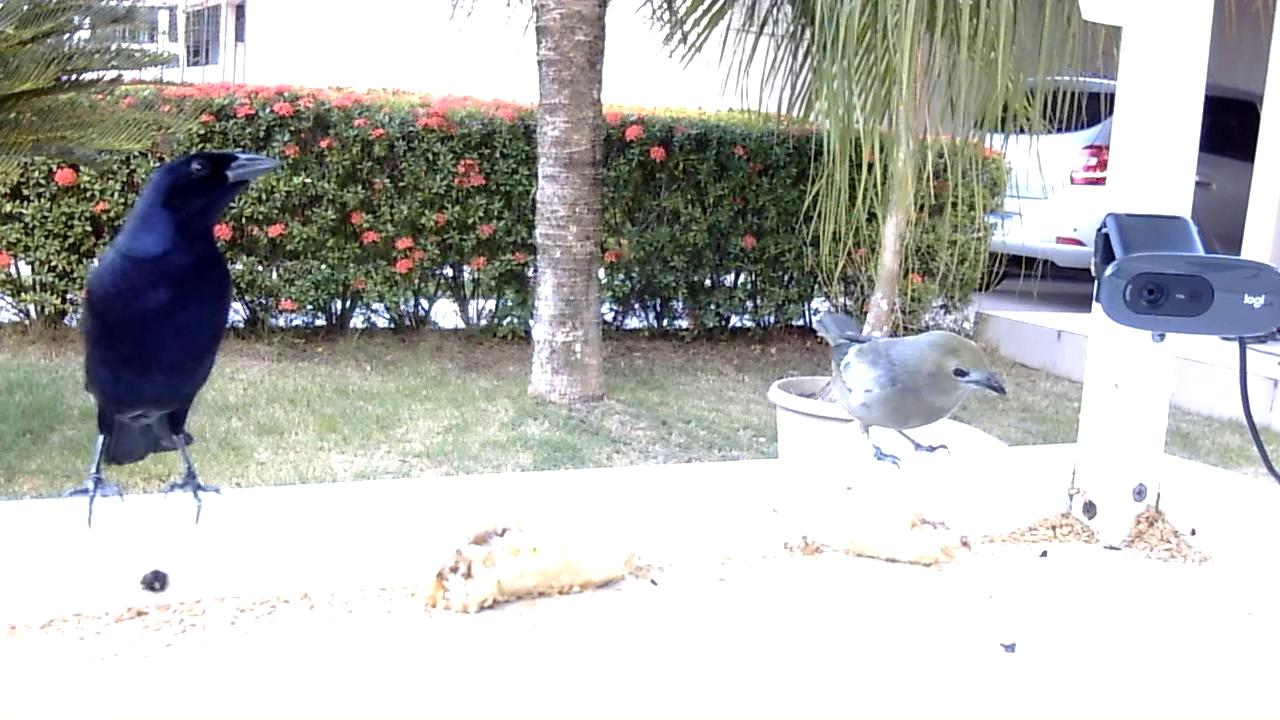chupim: (57, 144, 289, 535)
sanhaco_do_coqueiro: (806, 307, 1011, 474)
